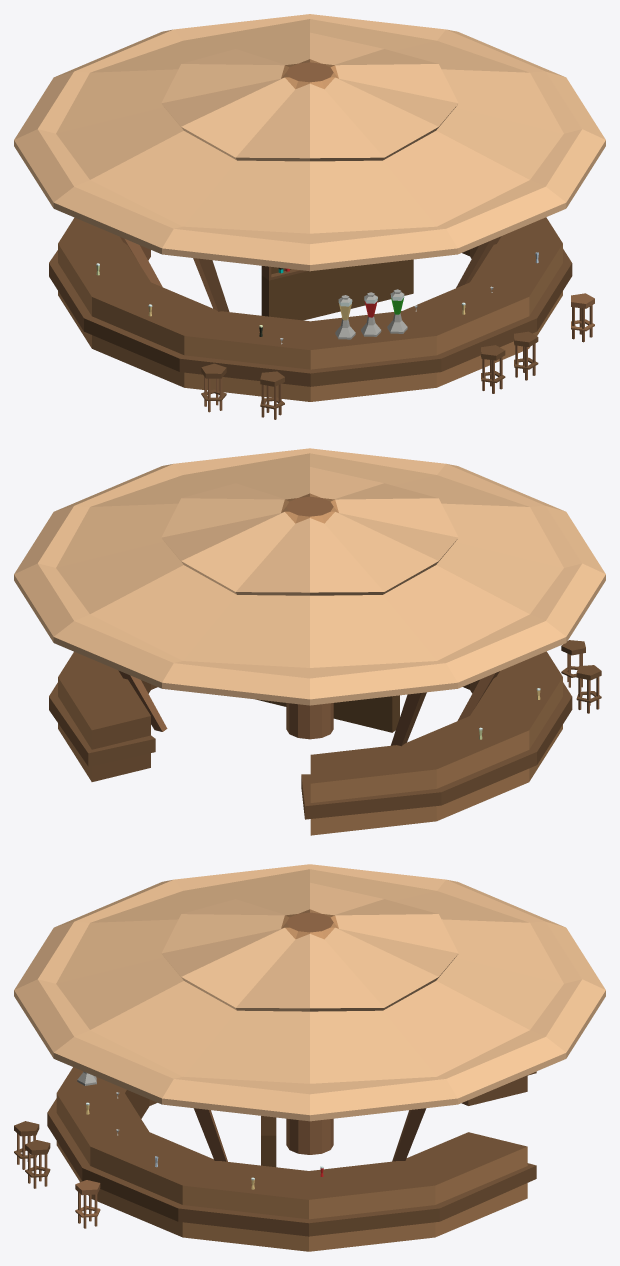
File: Bar.fbx
3 renders of one model, top to bottom at view 1: azimuth 30°, elevation 25°; view 2: azimuth 150°, elevation 25°; view 3: azimuth 270°, elevation 25°, orthographic.
Visible parts, largest first — view 1: Bar; view 2: Bar; view 3: Bar.
Part boxes in pixels (box(x1,y1,x2,y2)): Bar: box(14, 14, 605, 419); Bar: box(14, 448, 605, 835); Bar: box(14, 864, 605, 1251).
Size of the model in its own units: 929 by 389 by 929.
